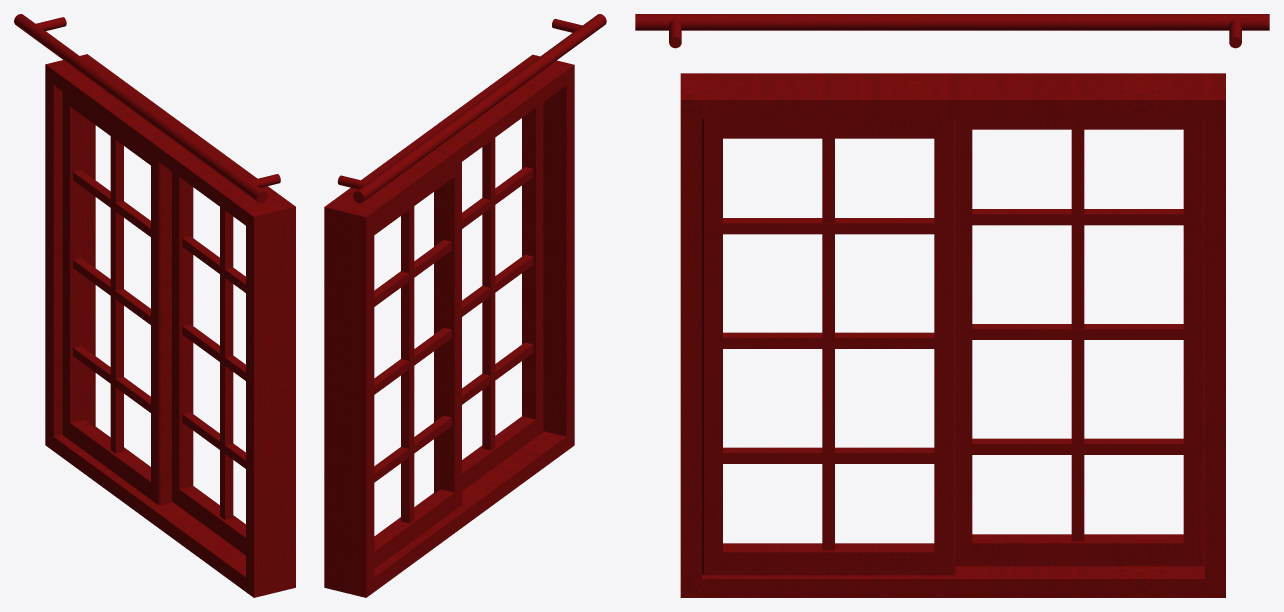
File: window.obj
The picture shows the model from 3 angles, left to right: view 1: azimuth 30°, elevation 25°; view 2: azimuth 150°, elevation 25°; view 3: azimuth 270°, elevation 25°; orthographic projection. The views are drawn at different scales.
Visible parts, largest first — view 1: group58 group62 pCube18, group58 group62 pCube17, group58 group62 pCube19, group58 group62 pCube3 group1, group58 group62 group1 pCube2, group58 group62 pCube20, group58 group62 group2 pCube2, group58 group62 pCylinder1, group58 group62 group1 pCube5, group58 group62 group2 pCube5, group58 group62 group1 pCube1, group58 group62 group2 pCube1 (+7 smaller); view 2: group58 group62 pCube17, group58 group62 pCube18, group58 group62 pCube19, group58 group62 pCube20, group58 group62 pCube3 group1, group58 group62 pCube3 group2, group58 group62 pCylinder1, group58 group62 group1 pCube5, group58 group62 group2 pCube5, group58 group62 group1 pCube1, group58 group62 group2 pCube1, group58 group62 group2 pCube2 (+7 smaller); view 3: group58 group62 pCube19, group58 group62 pCube20, group58 group62 pCylinder1, group58 group62 pCube18, group58 group62 pCube17, group58 group62 group2 pCube2, group58 group62 group1 pCube2, group58 group62 pCube3 group2, group58 group62 pCube3 group1, group58 group62 group1 pCube1, group58 group62 group2 pCube1, group58 group62 group1 pCube5 (+9 smaller).
Part boxes in pixels (x1=…): group58 group62 pCube18: x1=246, y1=221, x2=295, y2=583; group58 group62 pCube17: x1=45, y1=79, x2=95, y2=436; group58 group62 pCube19: x1=45, y1=54, x2=295, y2=231; group58 group62 pCube3 group1: x1=151, y1=156, x2=171, y2=505; group58 group62 group1 pCube2: x1=62, y1=92, x2=83, y2=439; group58 group62 pCube20: x1=45, y1=426, x2=295, y2=597; group58 group62 group2 pCube2: x1=172, y1=172, x2=193, y2=506; group58 group62 pCylinder1: x1=14, y1=14, x2=267, y2=203; group58 group62 group1 pCube5: x1=110, y1=136, x2=123, y2=453; group58 group62 group2 pCube5: x1=220, y1=207, x2=233, y2=519; group58 group62 group1 pCube1: x1=70, y1=419, x2=150, y2=499; group58 group62 group2 pCube1: x1=179, y1=486, x2=245, y2=555; group58 group62 pCube17: x1=324, y1=222, x2=374, y2=583; group58 group62 pCube18: x1=543, y1=79, x2=574, y2=436; group58 group62 pCube19: x1=324, y1=54, x2=574, y2=231; group58 group62 pCube20: x1=324, y1=431, x2=574, y2=597; group58 group62 pCube3 group1: x1=440, y1=162, x2=461, y2=509; group58 group62 pCube3 group2: x1=522, y1=102, x2=543, y2=436; group58 group62 pCylinder1: x1=353, y1=14, x2=606, y2=203; group58 group62 group1 pCube5: x1=401, y1=206, x2=414, y2=523; group58 group62 group2 pCube5: x1=482, y1=138, x2=495, y2=450; group58 group62 group1 pCube1: x1=374, y1=489, x2=454, y2=568; group58 group62 group2 pCube1: x1=462, y1=416, x2=535, y2=490; group58 group62 group2 pCube2: x1=434, y1=187, x2=440, y2=493; group58 group62 pCube19: x1=680, y1=73, x2=1225, y2=118; group58 group62 pCube20: x1=680, y1=565, x2=1225, y2=597; group58 group62 pCylinder1: x1=635, y1=14, x2=1269, y2=30; group58 group62 pCube18: x1=680, y1=119, x2=701, y2=578; group58 group62 pCube17: x1=1204, y1=119, x2=1225, y2=578; group58 group62 group2 pCube2: x1=934, y1=119, x2=955, y2=575; group58 group62 group1 pCube2: x1=1183, y1=119, x2=1204, y2=566; group58 group62 pCube3 group2: x1=702, y1=119, x2=722, y2=575; group58 group62 pCube3 group1: x1=955, y1=119, x2=972, y2=566; group58 group62 group1 pCube1: x1=972, y1=534, x2=1183, y2=566; group58 group62 group2 pCube1: x1=723, y1=543, x2=934, y2=575; group58 group62 group1 pCube5: x1=1071, y1=129, x2=1084, y2=541.
Size of the model in its own units: 20.28 by 144 by 150.
